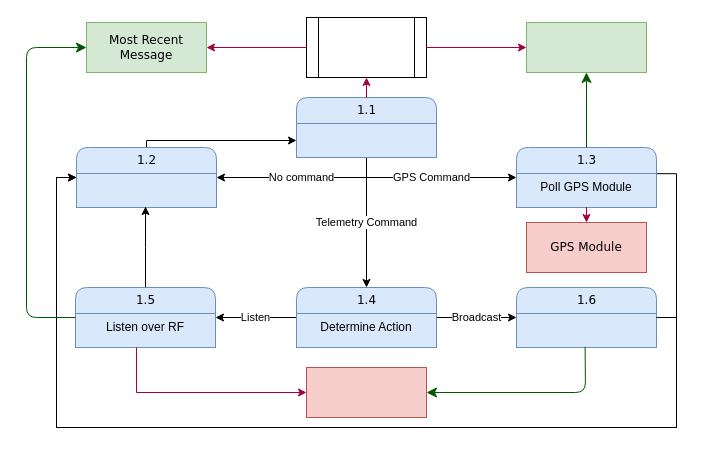
Some shapes in this 702 by 453 pixel diagram are drawn without their labels. Each missing label, with the box of its shape:
Broadcast Message over RF: (516, 312, 656, 348)
Check for Command from Model: (296, 122, 436, 158)
MODEL: (306, 16, 426, 78)
Most Recent Location: (526, 22, 646, 72)
Telemetry Moduel: (306, 366, 426, 418)
Wait 200 ms: (76, 172, 216, 208)
